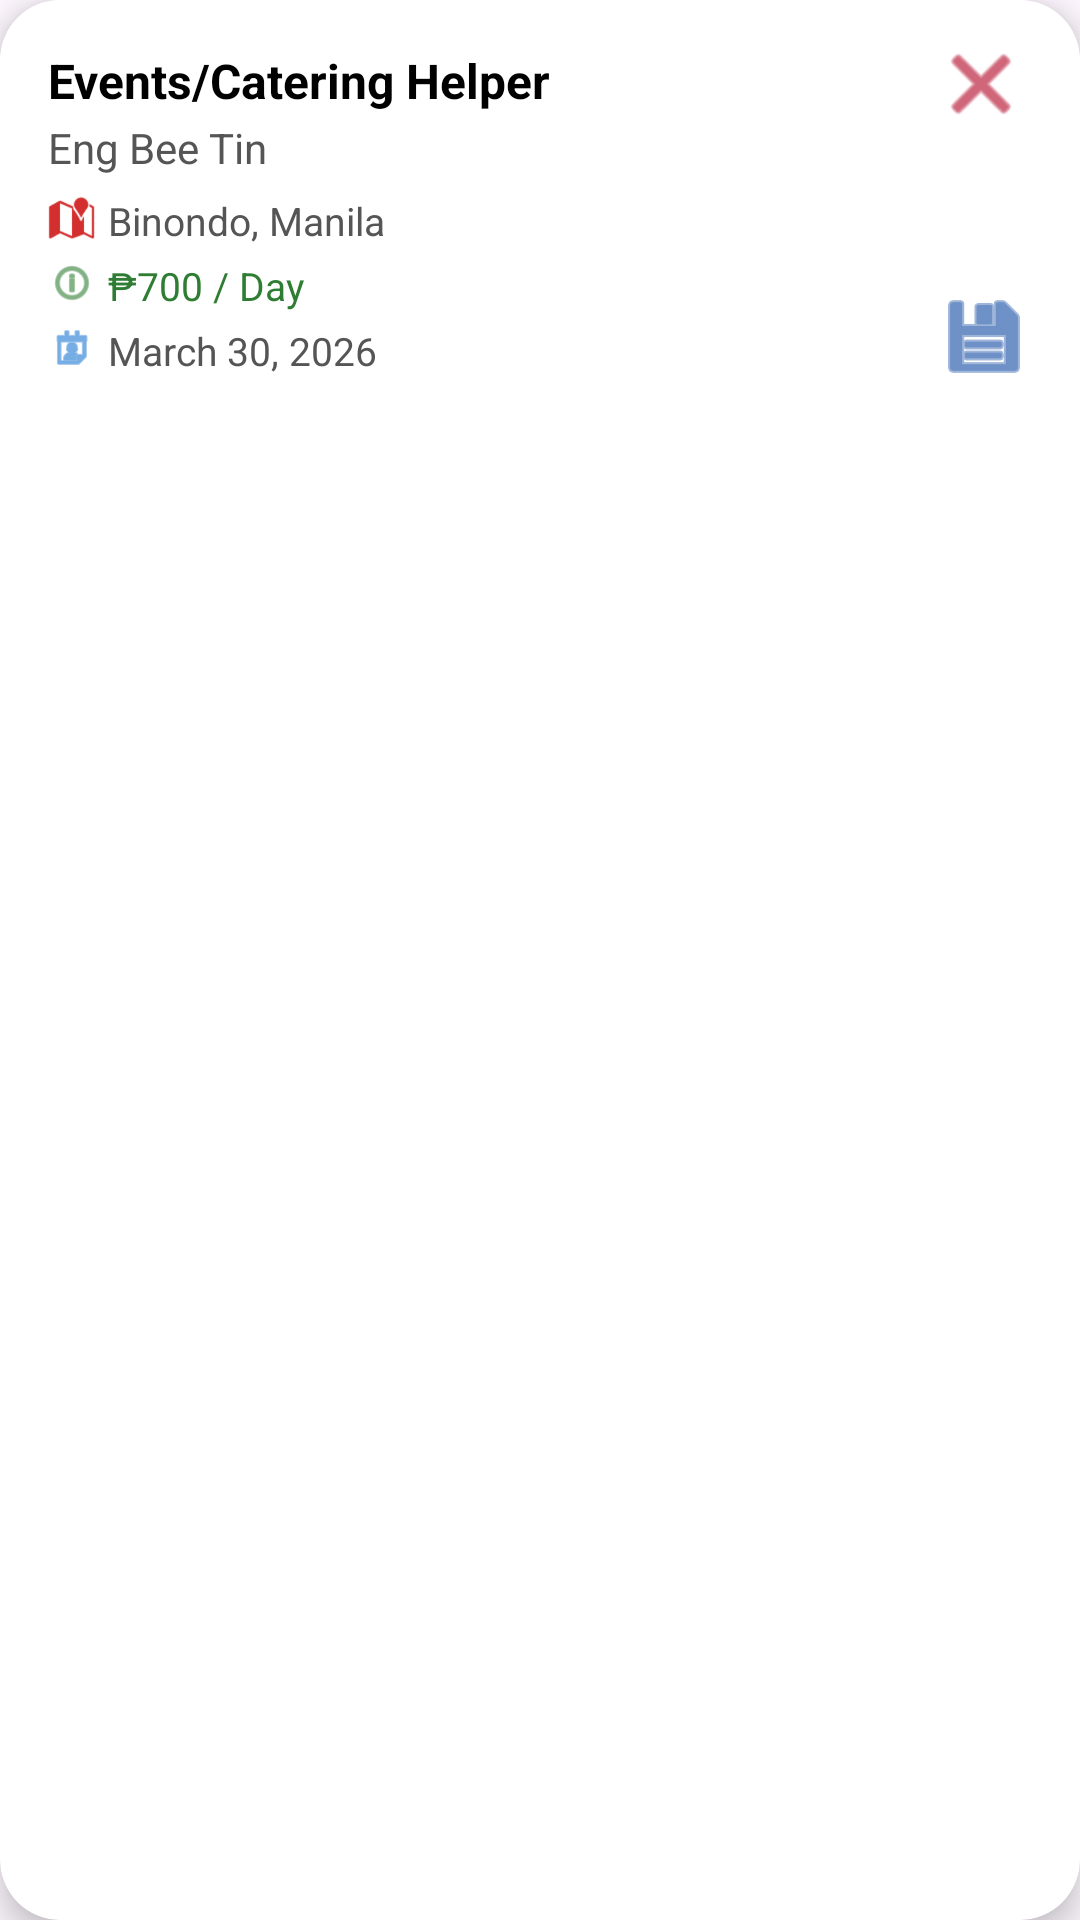

Screen size 1080x1920. Icon name, then its box in pixels as (x1,y1,x2,y2):
calendar: (56,330,88,365)
close clear cancel: (951,54,1011,114)
info details: (55,266,89,300)
map: (49,197,95,239)
save: (948,300,1020,373)
